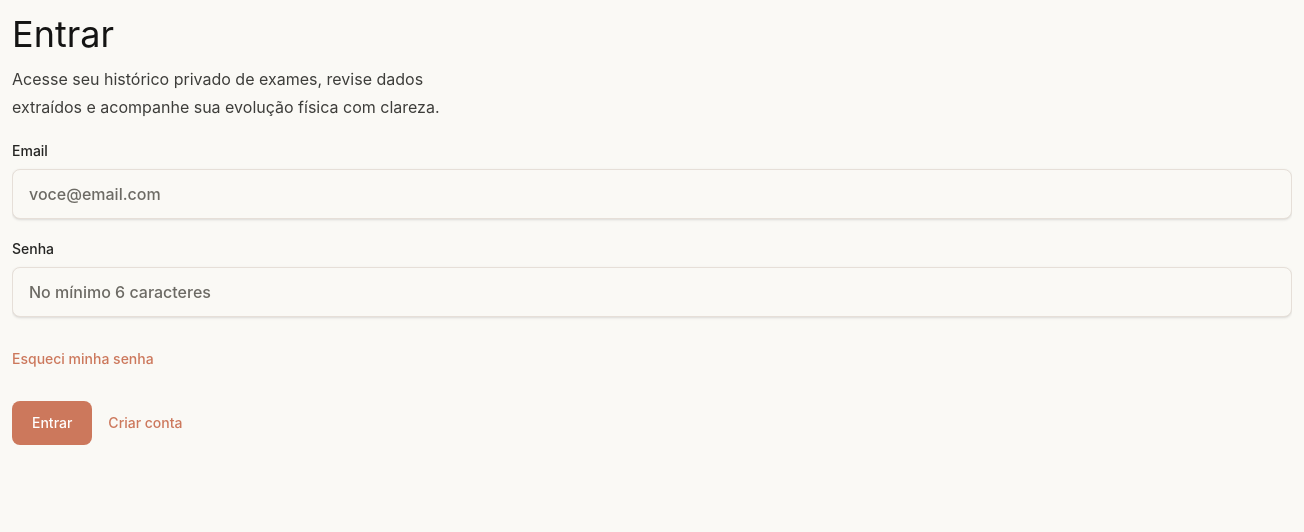
AuthForm › shows action errors after submit
Click the button "Entrar" at [52, 423], box [12,401,92,445]
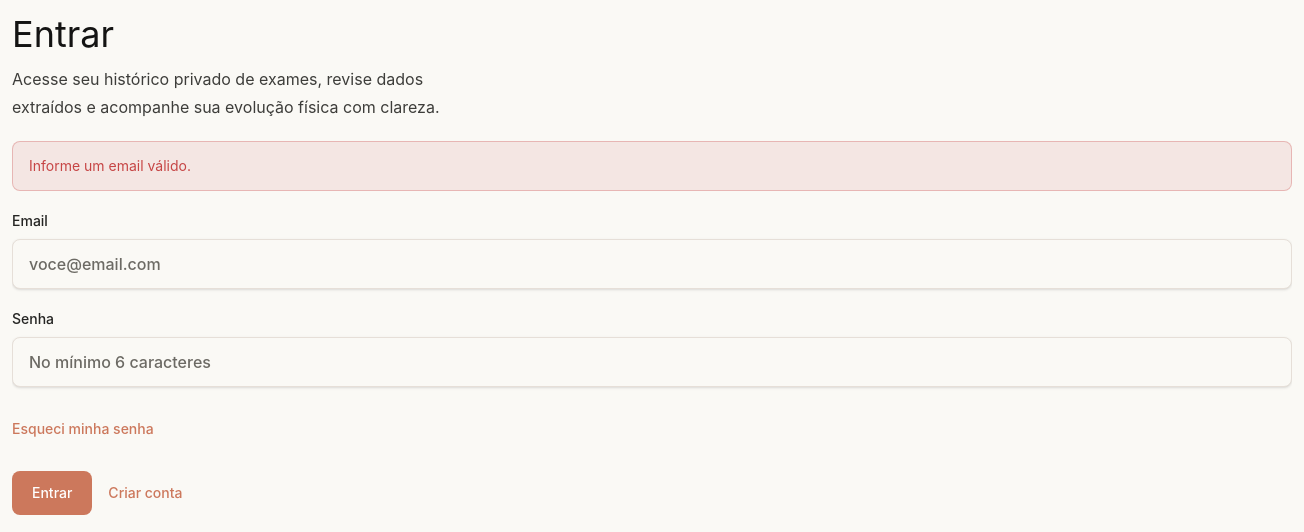
expect the message reads "Informe um email válido.": met, box [29,157,191,174]
